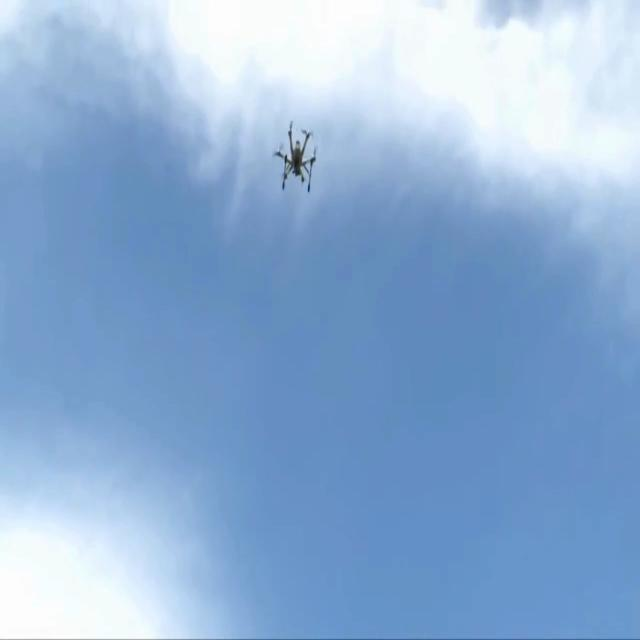drone: (273, 120, 317, 193)
